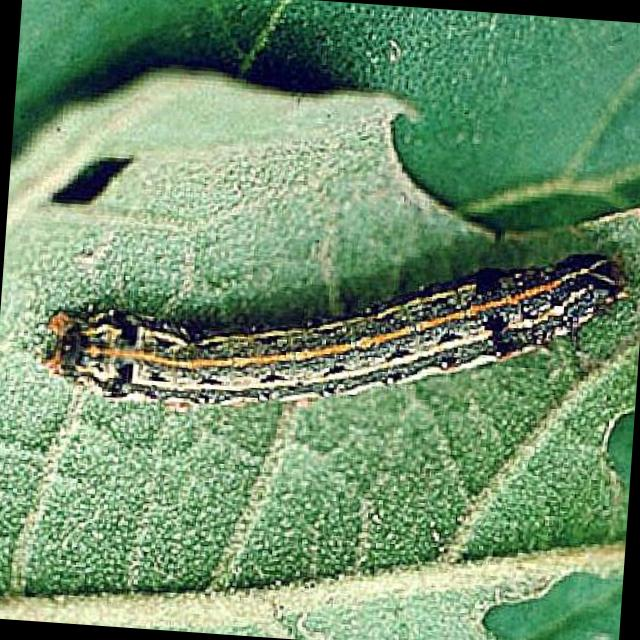Armyworm: (21, 215, 640, 435)
Armyworm_damage: (31, 145, 145, 236)
